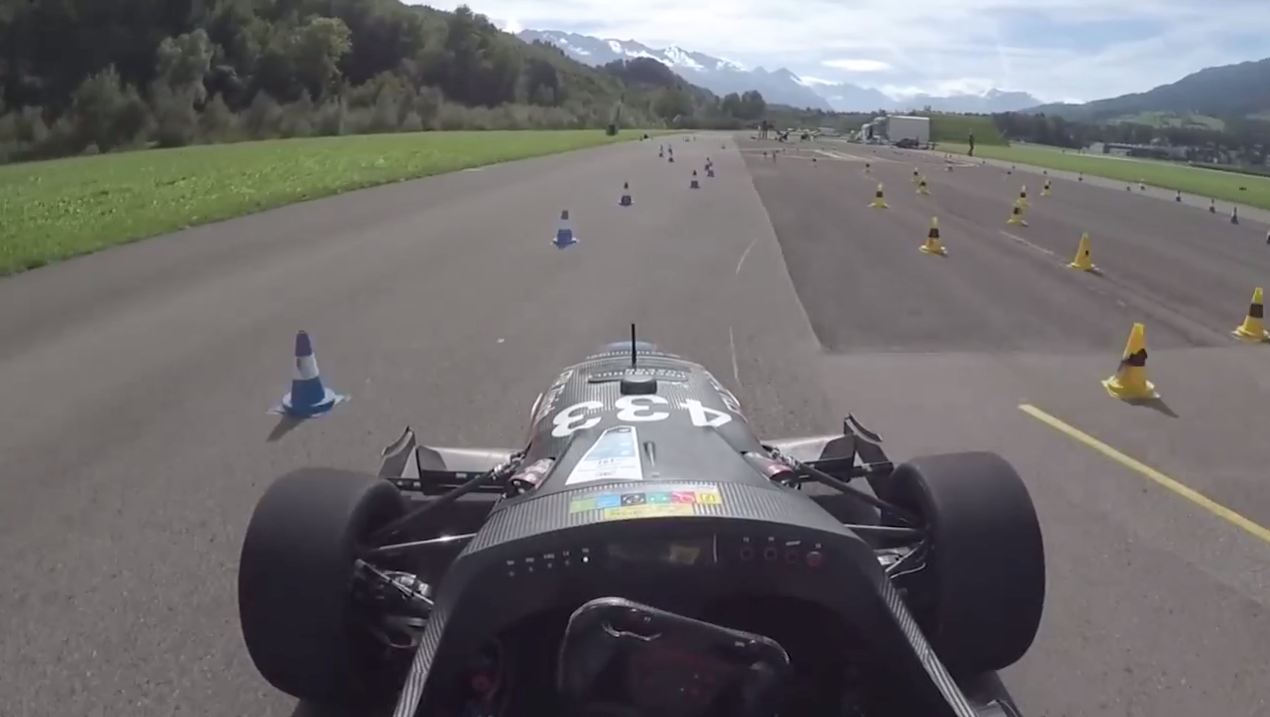lcone: (263, 324, 349, 425), (548, 207, 585, 250)
rcone: (1096, 317, 1170, 410), (916, 214, 956, 264), (1235, 285, 1270, 340), (1067, 232, 1101, 275)
